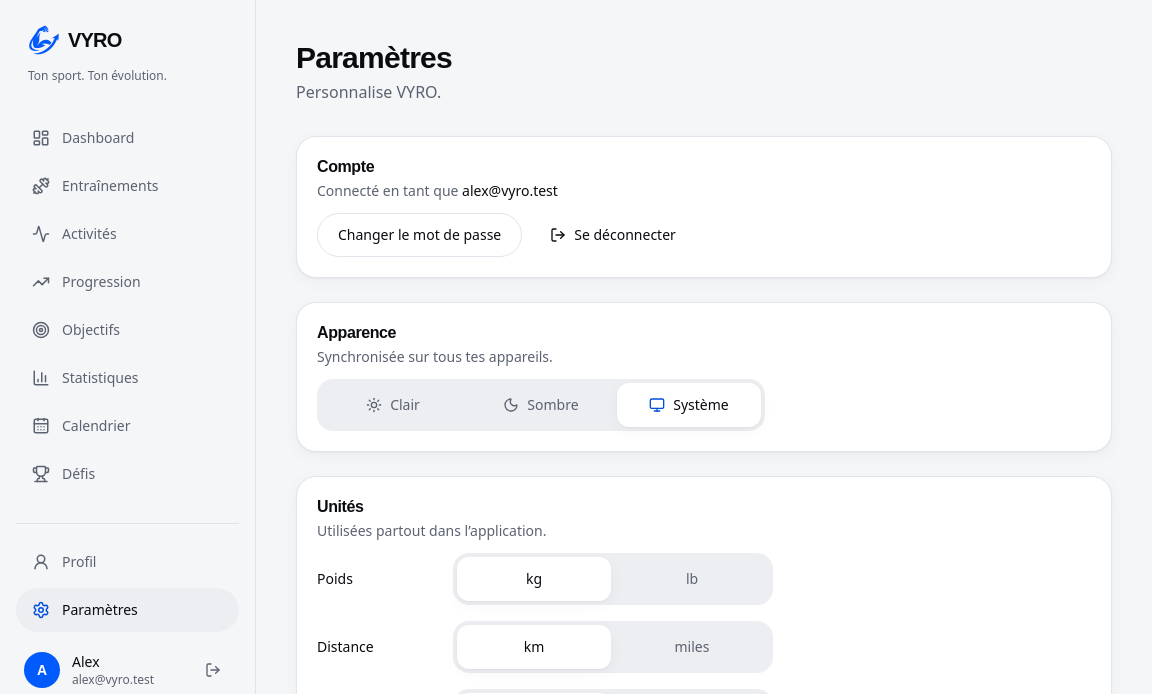
Test: Settings › rejects a wrong current password when changing it
Click the button "Changer le mot de passe": (420, 235) [317, 213, 522, 257]
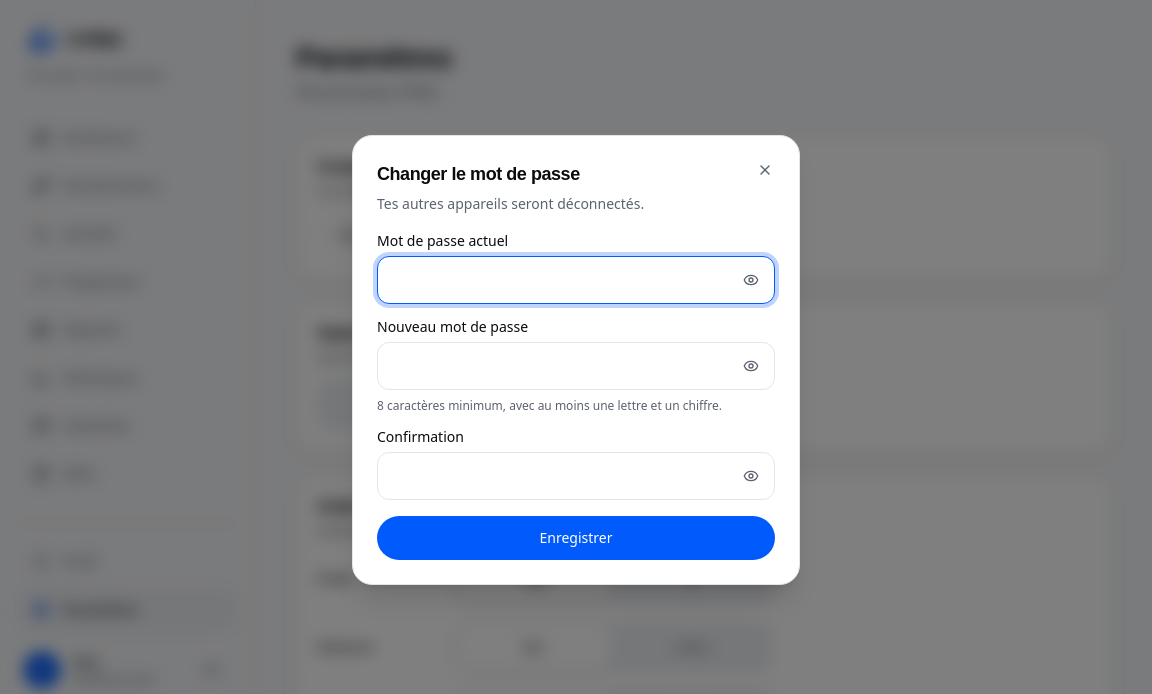
In the password field labelled "Mot de passe actuel": (576, 280) [377, 256, 775, 304], type "Mauvais1"
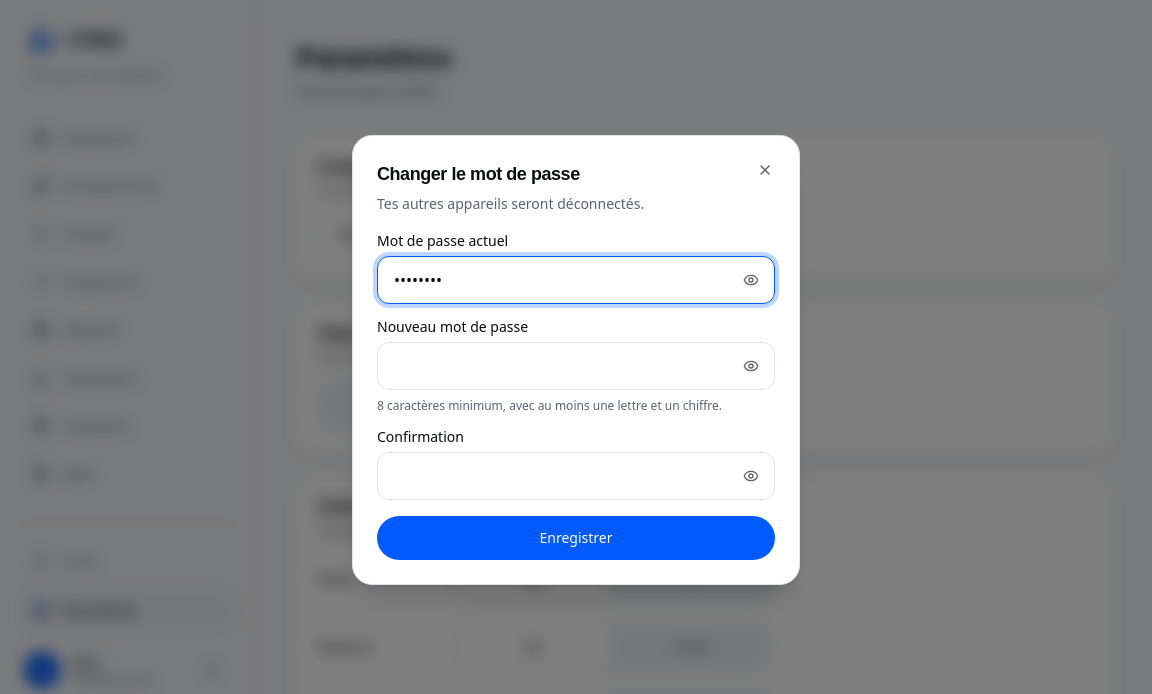
In the password field labelled "Nouveau mot de passe": (576, 366) [377, 342, 775, 390], type "Nouveau123"
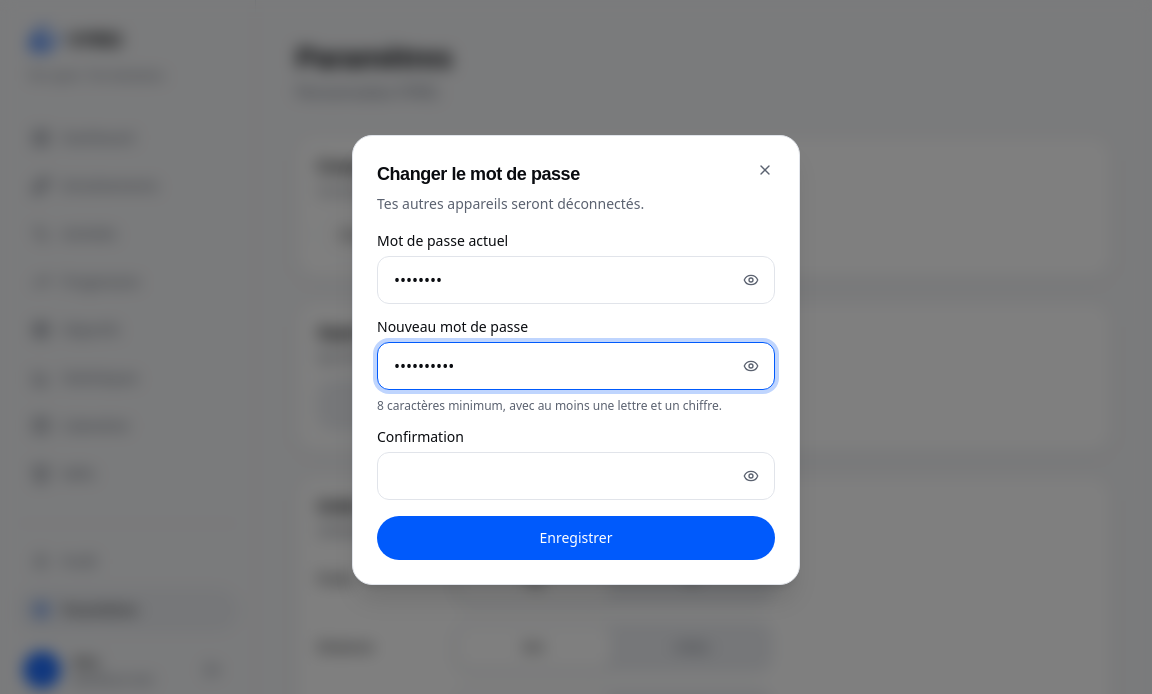
In the password field labelled "Confirmation": (576, 476) [377, 452, 775, 500], type "Nouveau123"
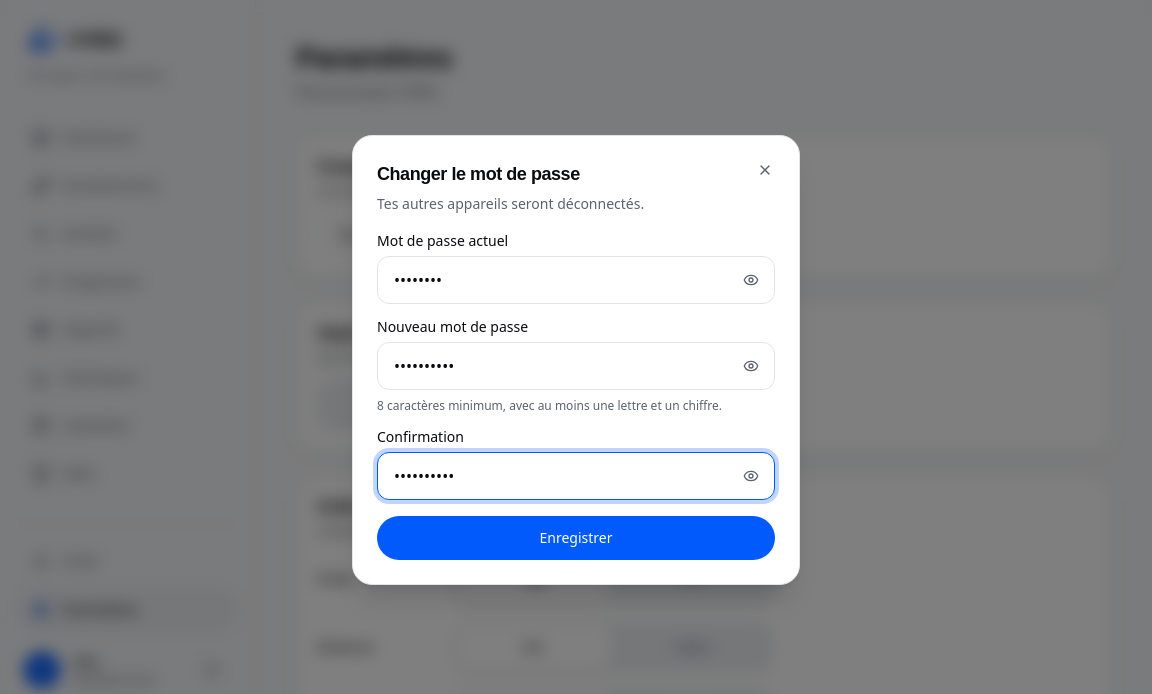
Click the button "Enregistrer": (576, 538) [377, 516, 775, 560]
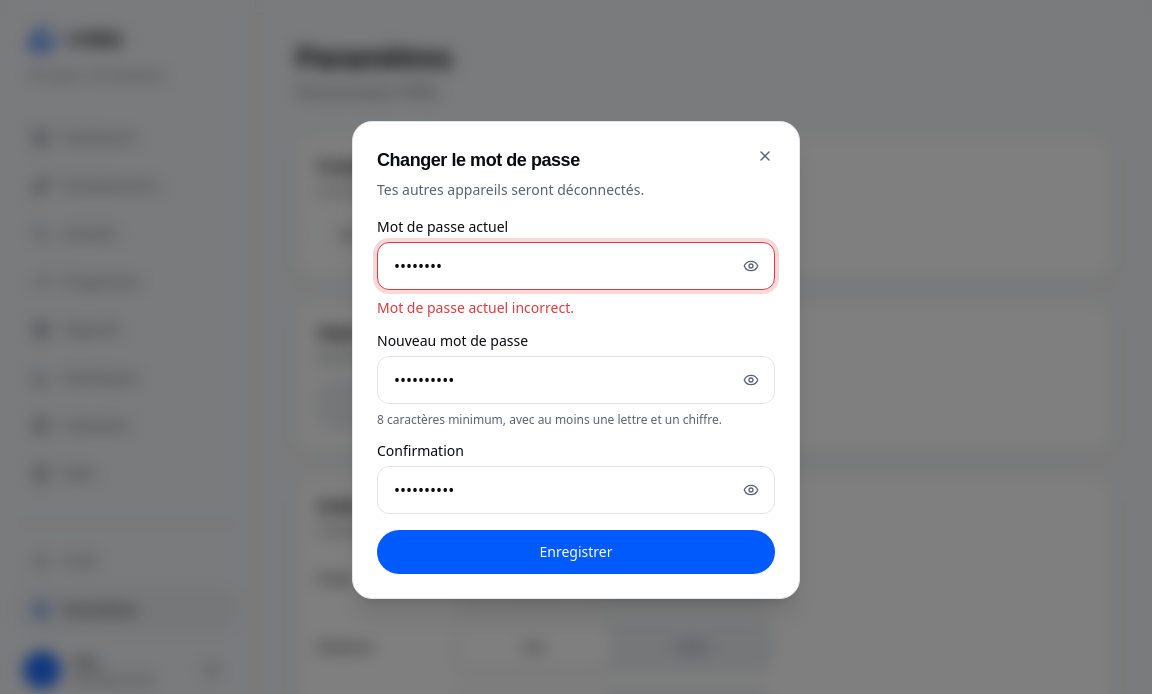
Expected: the text "Mot de passe actuel incorrect." is shown, [377, 298, 574, 317]
